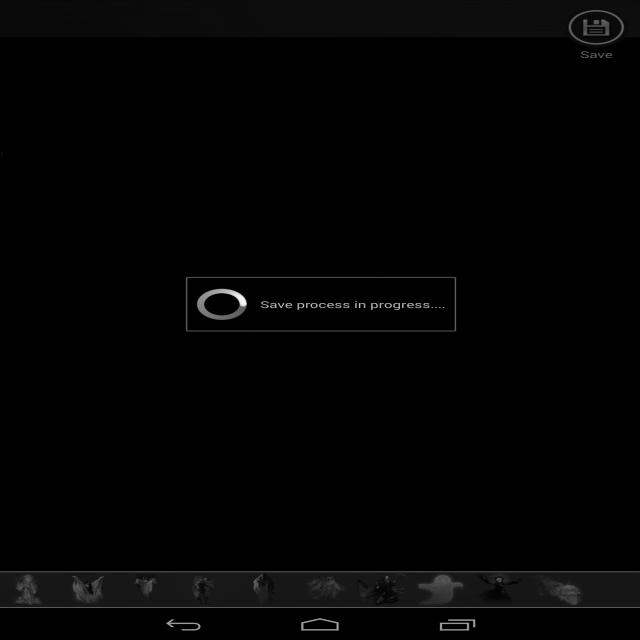ImageButton: (564, 10, 631, 47)
ImageView: (536, 577, 593, 606), (122, 574, 171, 605), (302, 576, 348, 604), (13, 572, 46, 604), (359, 576, 392, 605), (242, 577, 276, 605)
Spinner: (194, 286, 251, 323)
TextView: (260, 297, 442, 314)
